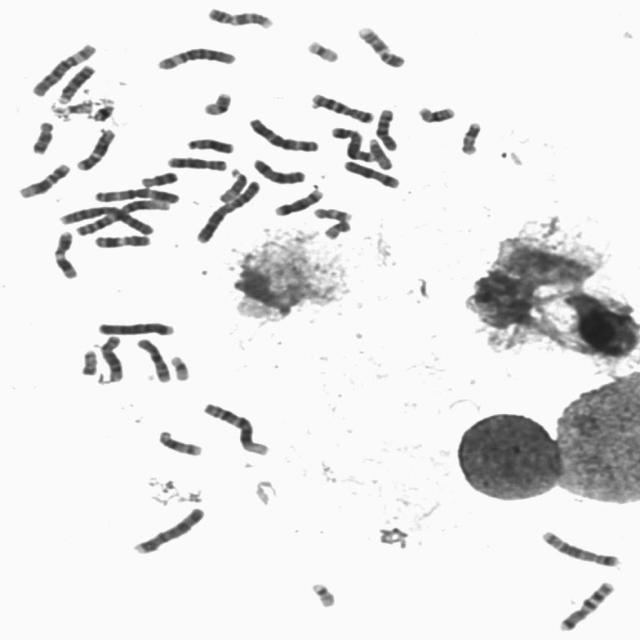A1: (200, 399, 272, 457), (75, 198, 172, 236)
A2: (192, 176, 263, 245), (56, 200, 161, 236)
A3: (245, 114, 322, 152), (90, 183, 182, 206)
B4: (130, 504, 207, 556), (94, 319, 176, 336)
B5: (537, 526, 623, 568), (328, 122, 377, 162)
C10: (133, 335, 173, 383), (372, 105, 400, 152)
C11: (50, 227, 81, 280), (90, 232, 152, 249)
C12: (14, 160, 72, 200), (73, 124, 118, 172)
C6: (28, 38, 99, 98), (152, 43, 238, 71)
C7: (555, 577, 618, 632), (307, 89, 376, 124)
C8: (96, 332, 126, 383), (163, 153, 230, 172)
C9: (354, 22, 408, 68), (203, 2, 276, 30)
D13: (54, 61, 97, 104), (183, 134, 236, 154)
D14: (271, 186, 326, 217), (154, 427, 205, 457)
D15: (215, 164, 249, 203), (365, 135, 395, 171)
E16: (199, 88, 234, 117), (414, 102, 458, 123)
E17: (457, 118, 484, 156), (310, 204, 354, 222)
E18: (27, 117, 56, 155), (137, 168, 180, 188)
F19: (303, 36, 342, 63), (166, 352, 192, 382)
F20: (321, 218, 353, 240), (78, 345, 100, 377)
G21: (85, 97, 117, 122)
G22: (58, 92, 98, 120), (307, 577, 339, 609)
X: (339, 158, 402, 190), (249, 155, 309, 185)
